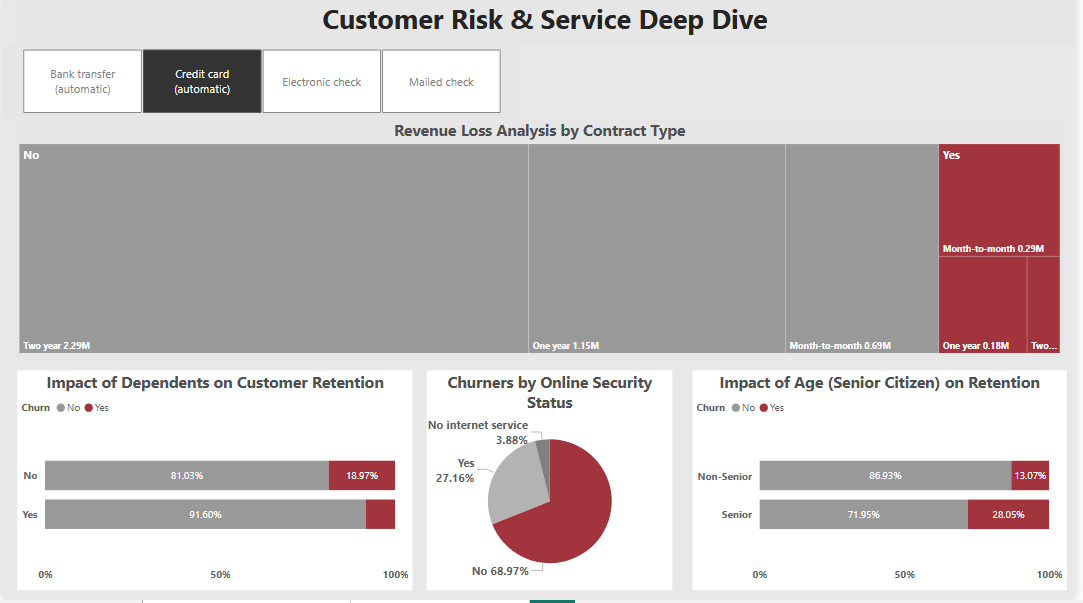

The page's visual inventory and layout, read from the dashboard file:
{"tool":"powerbi","page":{"name":"Customer Deep Dive","canvas":[1280,720],"ordinal":1},"visuals":[{"type":"treemap","title":"Revenue Loss Analysis by Contract Type","fields":{"Group":["Telco_Churn_For_Dashboard.Churn"],"Details":["Telco_Churn_For_Dashboard.Contract"],"Values":["Sum(Telco_Churn_For_Dashboard.TotalCharges)"]},"box":[15.4,146.6,1252.4,284.8],"z":0},{"type":"hundredPercentStackedBarChart","title":"Impact of Dependents on Customer Retention","fields":{"Category":["Telco_Churn_For_Dashboard.Dependents"],"Series":["Telco_Churn_For_Dashboard.Churn"],"Y":["CountNonNull(Telco_Churn_For_Dashboard.Customer ID)"]},"box":[17.7,446.6,471.9,262.5],"z":1000},{"type":"hundredPercentStackedBarChart","title":"Impact of Age (Senior Citizen) on Retention","fields":{"Series":["Telco_Churn_For_Dashboard.Churn"],"Category":["Telco_Churn_For_Dashboard.Senior Category"],"Y":["CountNonNull(Telco_Churn_For_Dashboard.Customer ID)"]},"box":[824,446.6,446.8,262.7],"z":2000},{"type":"slicer","fields":{"Values":["Telco_Churn_For_Dashboard.PaymentMethod"]},"box":[0,57.2,618.5,89.4],"z":3000},{"type":"pieChart","title":"Churners by Online Security Status","fields":{"Category":["Telco_Churn_For_Dashboard.OnlineSecurity"],"Y":["CountNonNull(Telco_Churn_For_Dashboard.Customer ID)"]},"box":[507.3,446.6,293.6,262.4],"z":4000},{"type":"textbox","box":[15.4,0,1265,57.2],"z":5000}]}

Visuals, with their boxes in screenshot pixels (x1, y1, x2, y2), scaled from the page's 1280x720 canvas onto the 1083x603 screenshot:
"Revenue Loss Analysis by Contract Type" treemap: box(13, 123, 1073, 361)
"Impact of Dependents on Customer Retention" hundredPercentStackedBarChart: box(15, 374, 414, 594)
"Impact of Age (Senior Citizen) on Retention" hundredPercentStackedBarChart: box(697, 374, 1075, 594)
slicer - Telco_Churn_For_Dashboard.PaymentMethod: box(0, 48, 523, 123)
"Churners by Online Security Status" pieChart: box(429, 374, 678, 594)
textbox: box(13, 0, 1082, 48)
